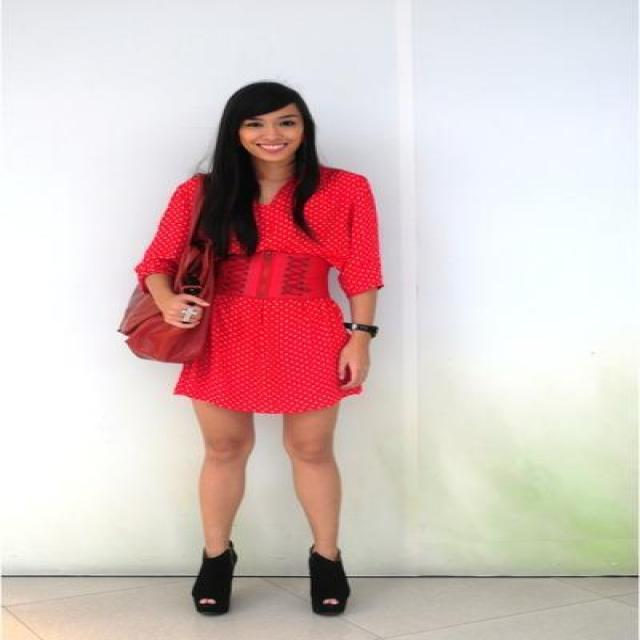bag: (128, 261, 210, 305)
dress: (136, 170, 382, 416)
shoe: (187, 529, 363, 616)
